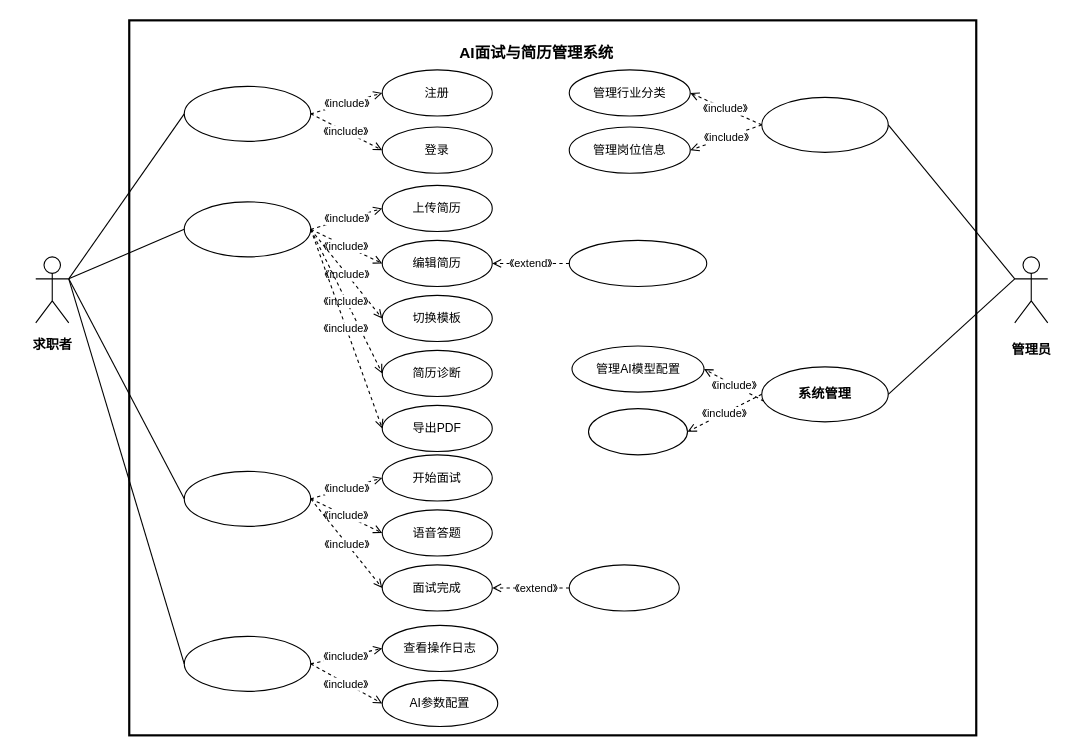
This 1082x755 diagram has some shape labels left out. Here are the shapes that lost their labels. From the top down, the box of each, then its label:
(183, 85, 311, 141): 账号管理
(761, 96, 888, 152): 内容管理
(183, 201, 311, 257): 简历管理
(568, 239, 707, 287): AI对话生成简历
(587, 408, 688, 455): 管理用户
(183, 470, 311, 526): 面试管理
(568, 564, 679, 611): 查看报告
(183, 635, 311, 691): 系统设置
